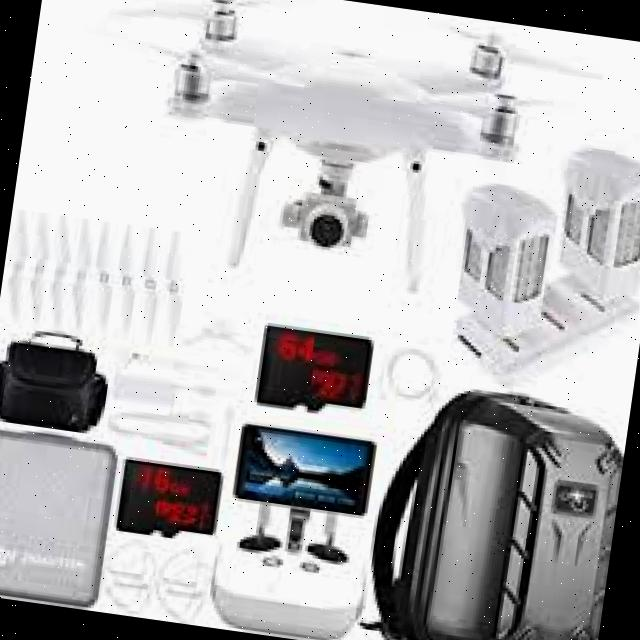drone: (65, 0, 573, 324)
